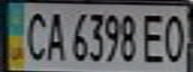3: (84, 9, 106, 63)
6: (66, 8, 90, 63)
8: (118, 10, 142, 64)
9: (103, 10, 124, 63)
A: (42, 8, 69, 62)
C: (21, 8, 51, 62)
E: (139, 10, 169, 64)
O: (160, 10, 193, 64)
